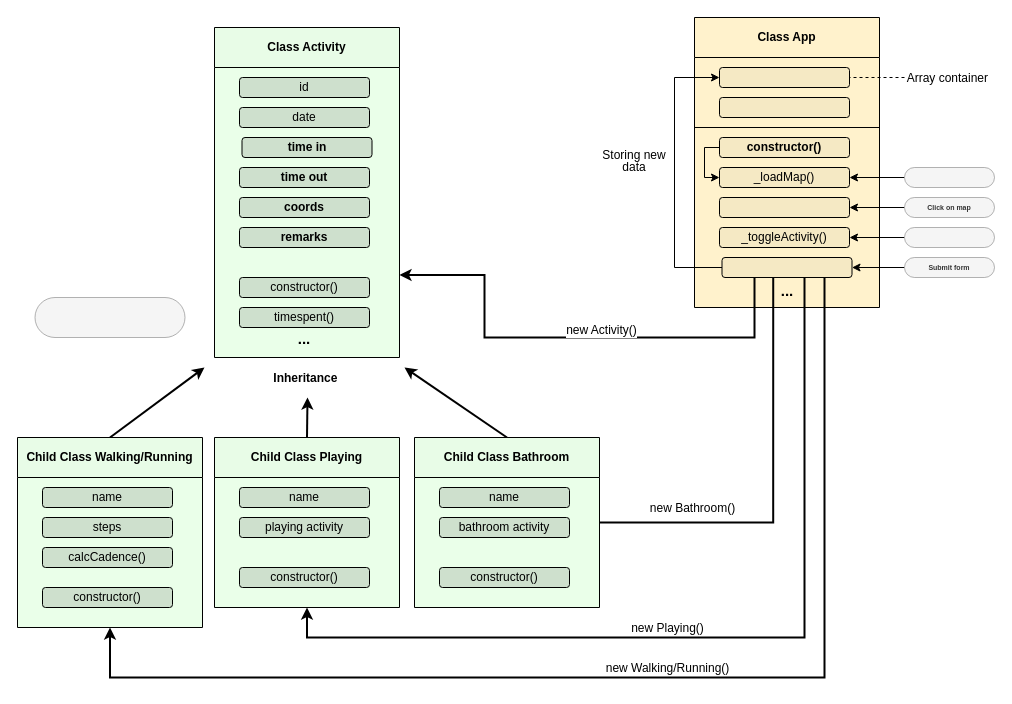
The diagram is 1012 pixels wide and 704 high, and some of its shapes have lost their labels. The shapes that lost their labels are listed below. From the top down, each one's centre as x and y in pixels, then its label:
the point at 784,77: activities
the point at 784,107: map
the point at 949,177: Load page
the point at 784,207: _showForm()
the point at 949,237: Change input
the point at 786,267: _newActivity()
the point at 109,317: Resting Activity will be using the Parent class
